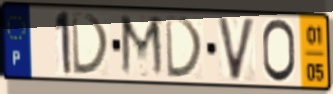1: (53, 9, 74, 78)
D: (69, 11, 113, 77), (163, 14, 206, 80)
M: (118, 12, 167, 81)
O: (261, 18, 298, 86)
V: (215, 15, 258, 84)
